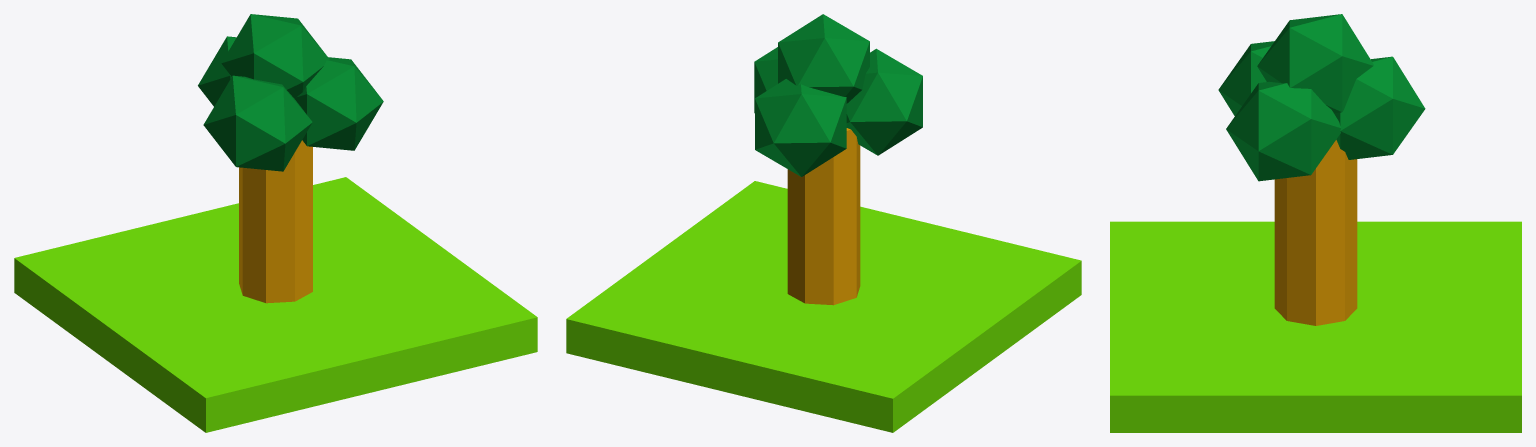
Rendered from Tree.fbx.
3 renders of one model, left to right at view 1: azimuth 30°, elevation 25°; view 2: azimuth 150°, elevation 25°; view 3: azimuth 270°, elevation 25°, orthographic. The views are drawn at different scales.
Visible parts, largest first — view 1: Grass, Tree; view 2: Grass, Tree; view 3: Grass, Tree.
Boxes of the visible parts, left/top/right/bottom form: Grass: left=14, top=177, right=537, bottom=432; Tree: left=198, top=14, right=383, bottom=303; Grass: left=566, top=181, right=1081, bottom=432; Tree: left=754, top=14, right=922, bottom=305; Grass: left=1110, top=221, right=1521, bottom=432; Tree: left=1218, top=14, right=1425, bottom=325.
Size of the model in its own units: 10 by 8.71 by 10.
